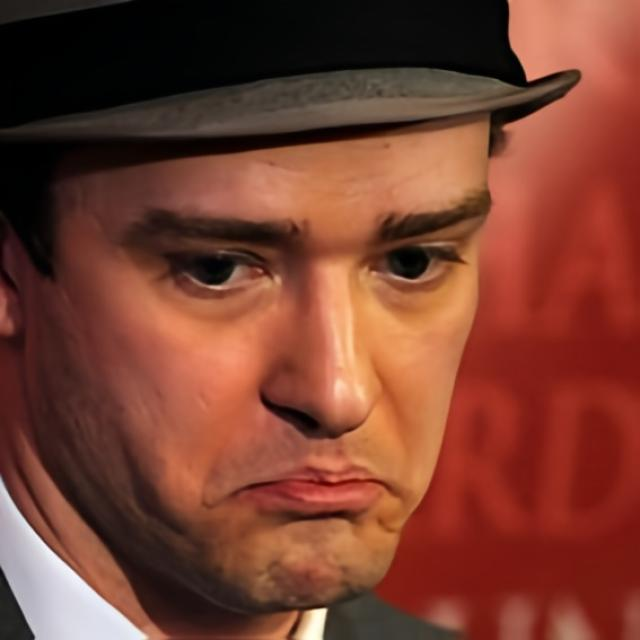sad: (25, 106, 494, 618)
